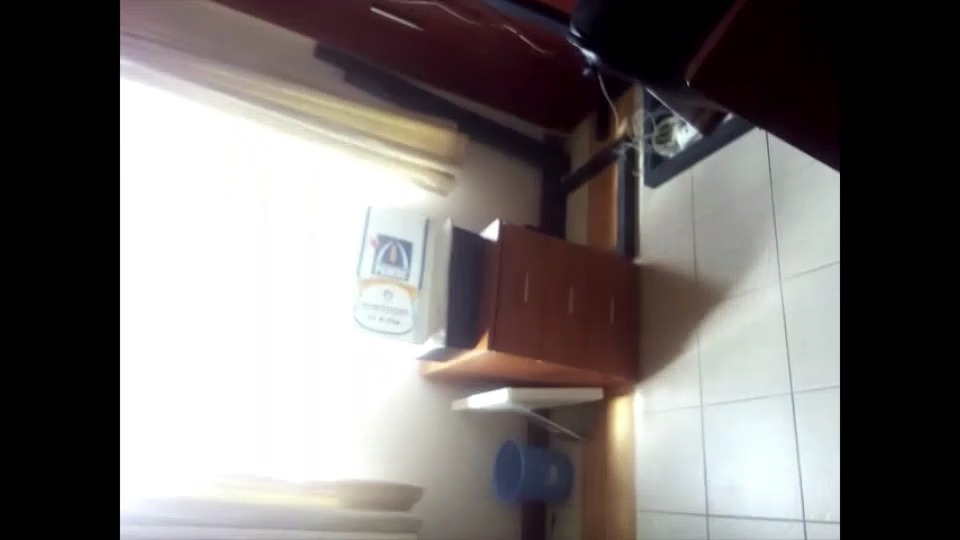wheat_flour_blue_label: (363, 199, 445, 349)
